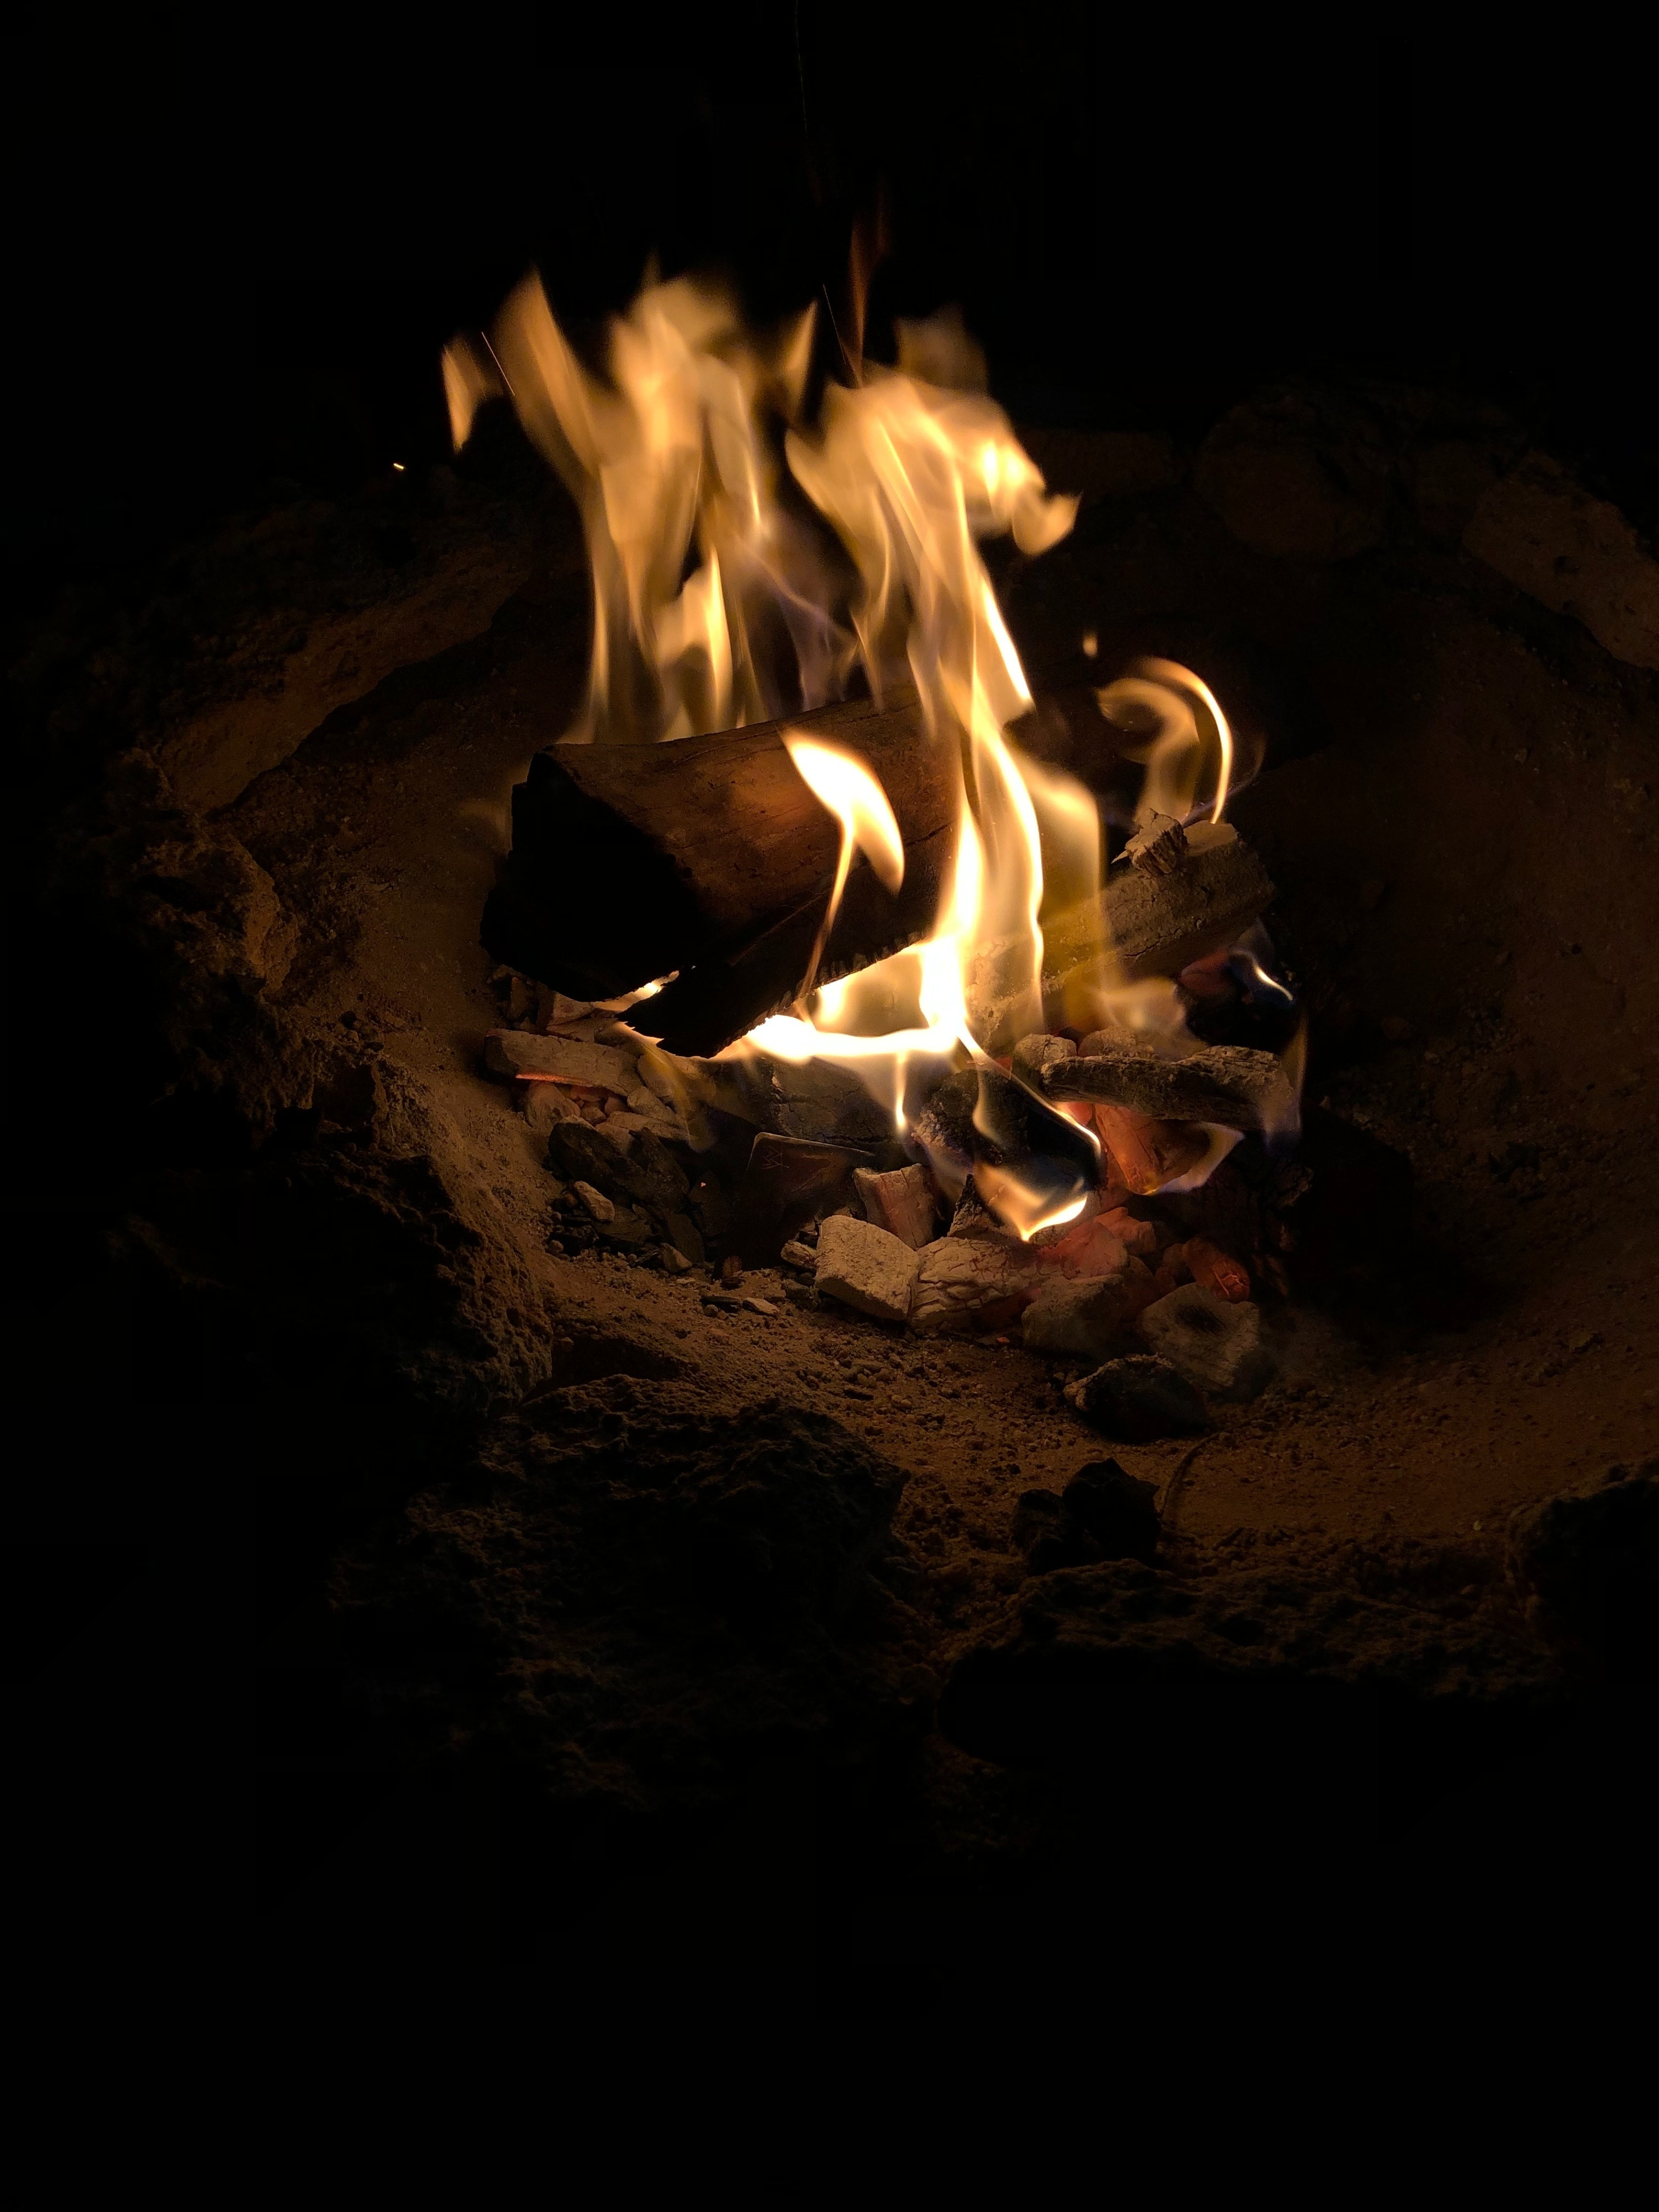fire: (415, 226, 1211, 1130)
